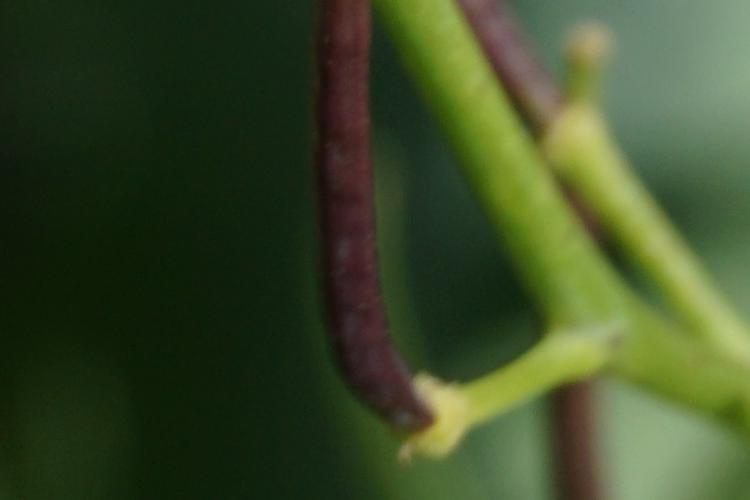pod: (301, 15, 488, 480)
